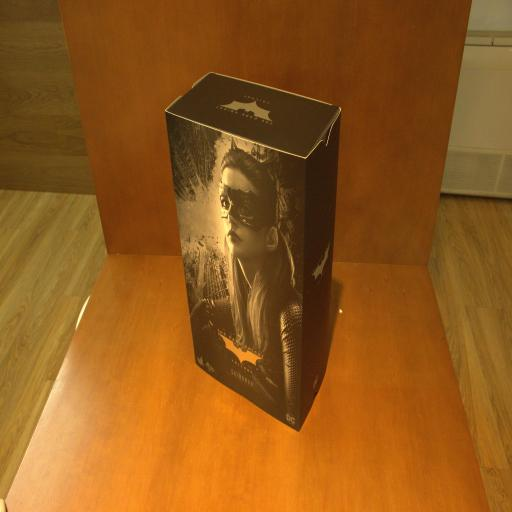catwoman: (165, 72, 341, 431)
